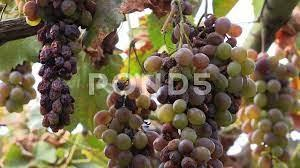Grape Rotten: (92, 3, 298, 168), (16, 0, 96, 132)
